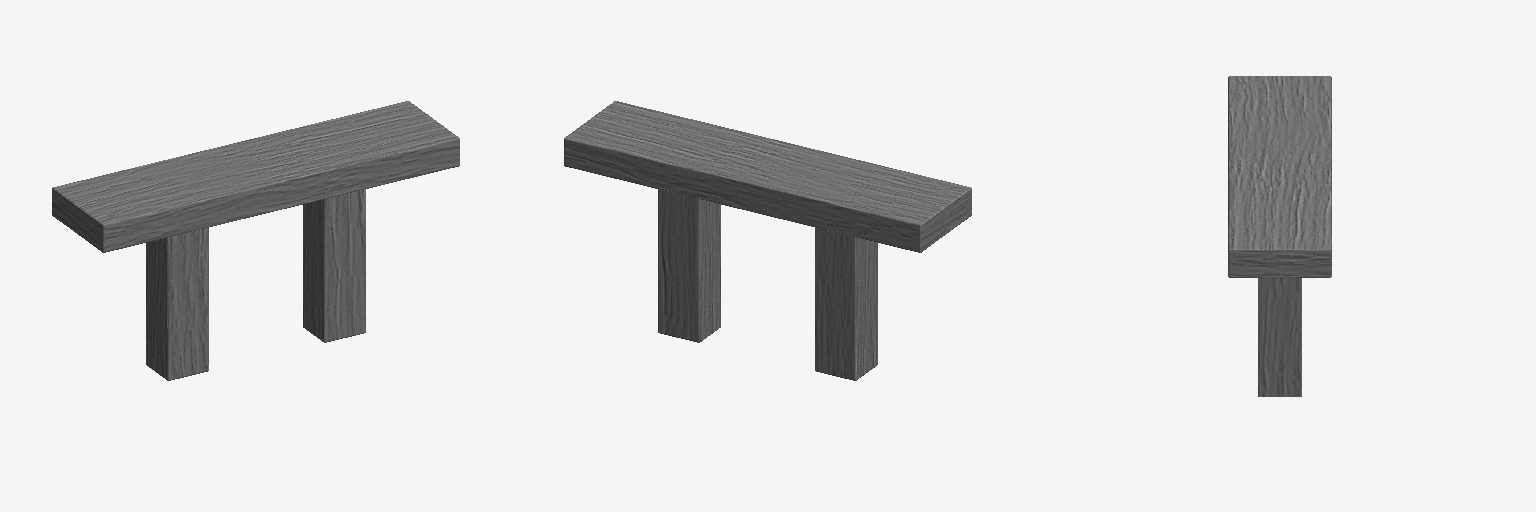
3 renders of one model, left to right at view 1: azimuth 30°, elevation 25°; view 2: azimuth 150°, elevation 25°; view 3: azimuth 270°, elevation 25°, orthographic.
Visible parts, largest first — view 1: pCube1; view 2: pCube1; view 3: pCube1.
Boxes of the visible parts, x1,y1,x2,y2 form: pCube1: [52, 101, 459, 380]; pCube1: [564, 101, 971, 380]; pCube1: [1228, 76, 1331, 396].
Size of the model in its own units: 200 by 100 by 49.94.
Materials: 3 (1 with a texture image).